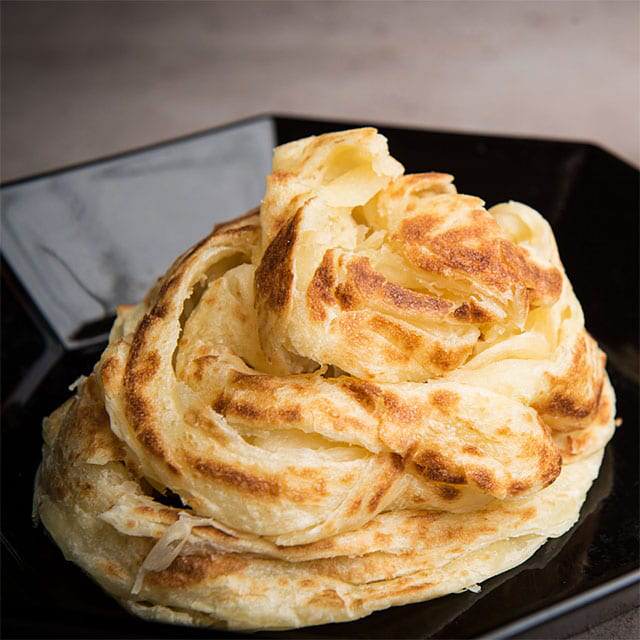Prata: (39, 189, 614, 618)
